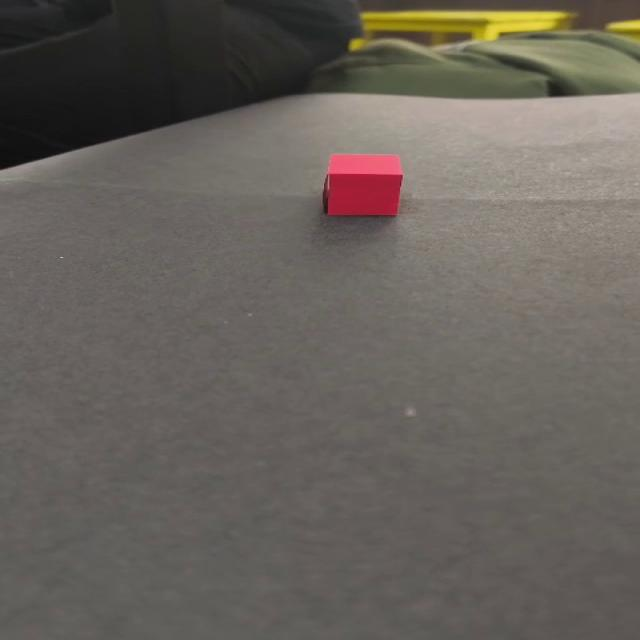red block: (321, 153, 403, 216)
